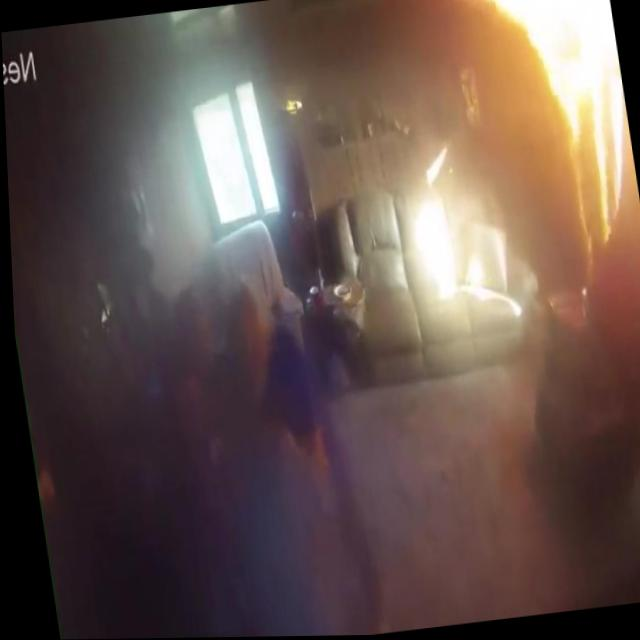fire: (476, 0, 640, 266)
